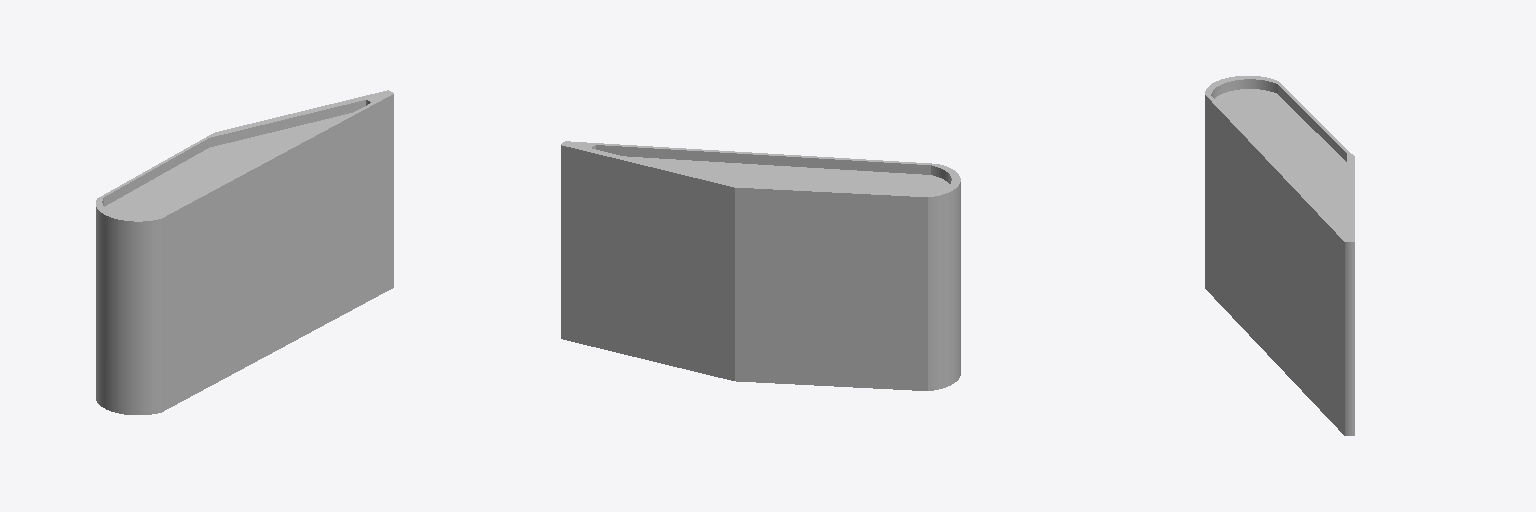
The model's file is FlippersRight.obj.
The picture shows the model from 3 angles: view 1: azimuth 30°, elevation 25°; view 2: azimuth 150°, elevation 25°; view 3: azimuth 270°, elevation 25°; orthographic projection.
Parts seen in each view (by area): view 1: Cube.002_Cube.042, FlipperIn_Cube.025; view 2: Cube.002_Cube.042, FlipperIn_Cube.025; view 3: Cube.002_Cube.042, FlipperIn_Cube.025.
Part boxes in pixels (x1,y1,x2,y2): Cube.002_Cube.042: (96, 90, 393, 414); FlipperIn_Cube.025: (105, 112, 353, 217); Cube.002_Cube.042: (561, 141, 960, 390); FlipperIn_Cube.025: (625, 156, 949, 195); Cube.002_Cube.042: (1205, 76, 1354, 435); FlipperIn_Cube.025: (1214, 89, 1346, 228).
Bounding box in the file's own units: 0.9223 × 0.5 × 0.3509.